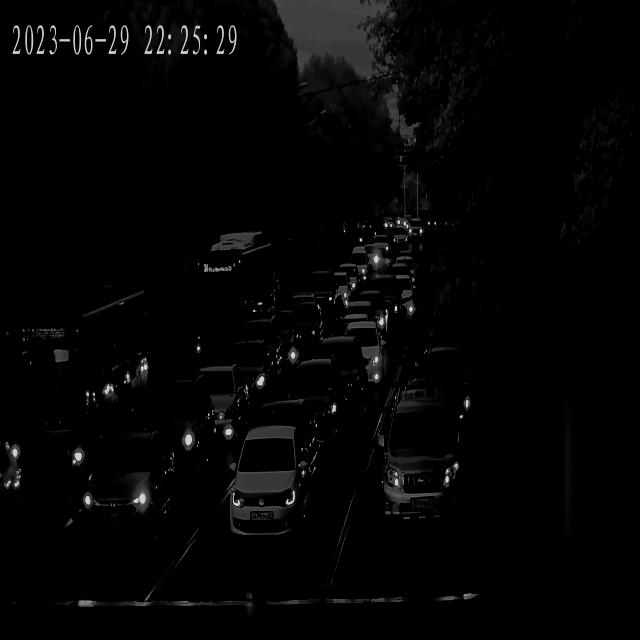Bus: (0, 290, 145, 497), (188, 232, 278, 354)
Car: (375, 391, 463, 530), (80, 434, 176, 548), (226, 425, 316, 546), (148, 372, 214, 488), (282, 355, 342, 466), (242, 402, 320, 466), (188, 367, 247, 450), (395, 374, 469, 440), (316, 336, 366, 432), (410, 354, 472, 417), (326, 326, 386, 390), (420, 328, 464, 403), (228, 338, 271, 409), (239, 317, 283, 386), (300, 271, 354, 317), (262, 309, 304, 367), (345, 291, 391, 339), (0, 437, 20, 547), (284, 298, 322, 352), (370, 273, 401, 325), (387, 273, 414, 315), (340, 251, 371, 284), (391, 263, 414, 297), (359, 245, 380, 274), (397, 256, 417, 286), (391, 224, 408, 248), (373, 235, 390, 257), (409, 217, 423, 238)
